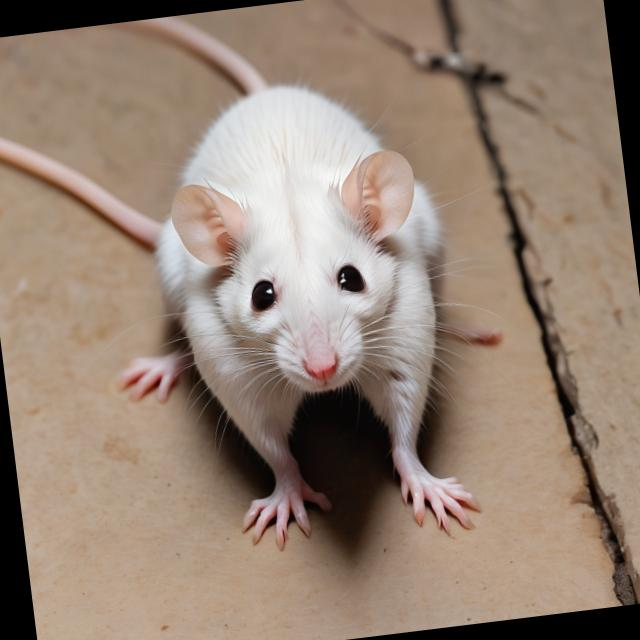rodents: (76, 47, 508, 583)
